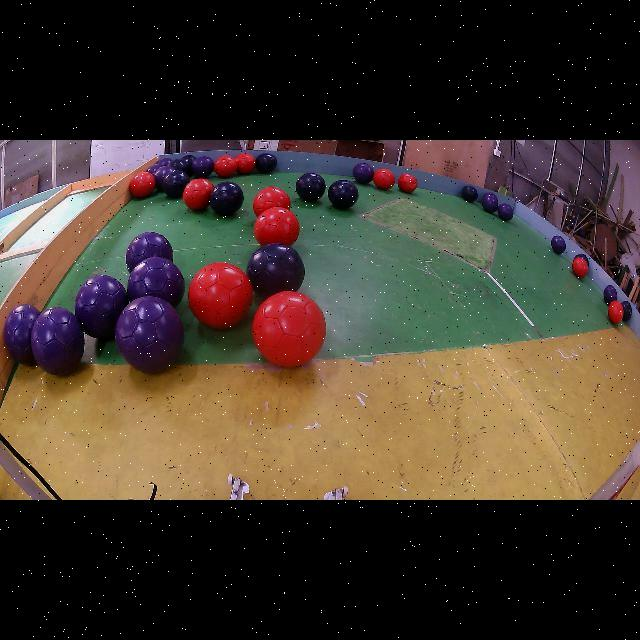B: (246, 244, 305, 298), (210, 181, 244, 216), (328, 180, 359, 209), (296, 172, 325, 201), (162, 170, 190, 198), (255, 154, 278, 174), (461, 185, 478, 202), (170, 159, 189, 173), (621, 301, 632, 321), (574, 254, 589, 267), (181, 155, 196, 167)
P: (115, 296, 184, 372), (31, 308, 85, 375), (75, 275, 129, 339), (128, 256, 185, 308), (4, 304, 40, 364), (126, 231, 174, 271), (191, 156, 214, 178), (154, 166, 176, 189), (352, 162, 374, 184), (498, 202, 514, 221), (551, 235, 566, 254), (604, 285, 618, 305), (483, 195, 497, 213), (146, 164, 161, 174), (158, 158, 171, 166), (483, 192, 496, 197)
